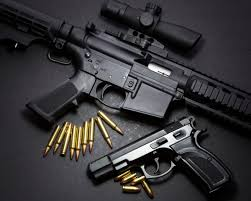Gun: (2, 1, 247, 195)
